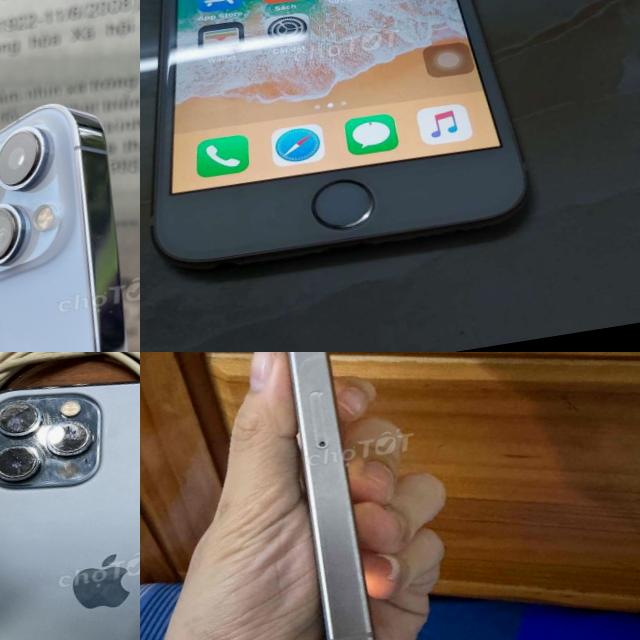gen_12_13: (0, 352, 140, 640), (0, 91, 140, 352)
gen_15: (232, 352, 410, 640)
gen_6: (151, 0, 526, 266)
scratch: (0, 368, 111, 505), (289, 352, 332, 381)
